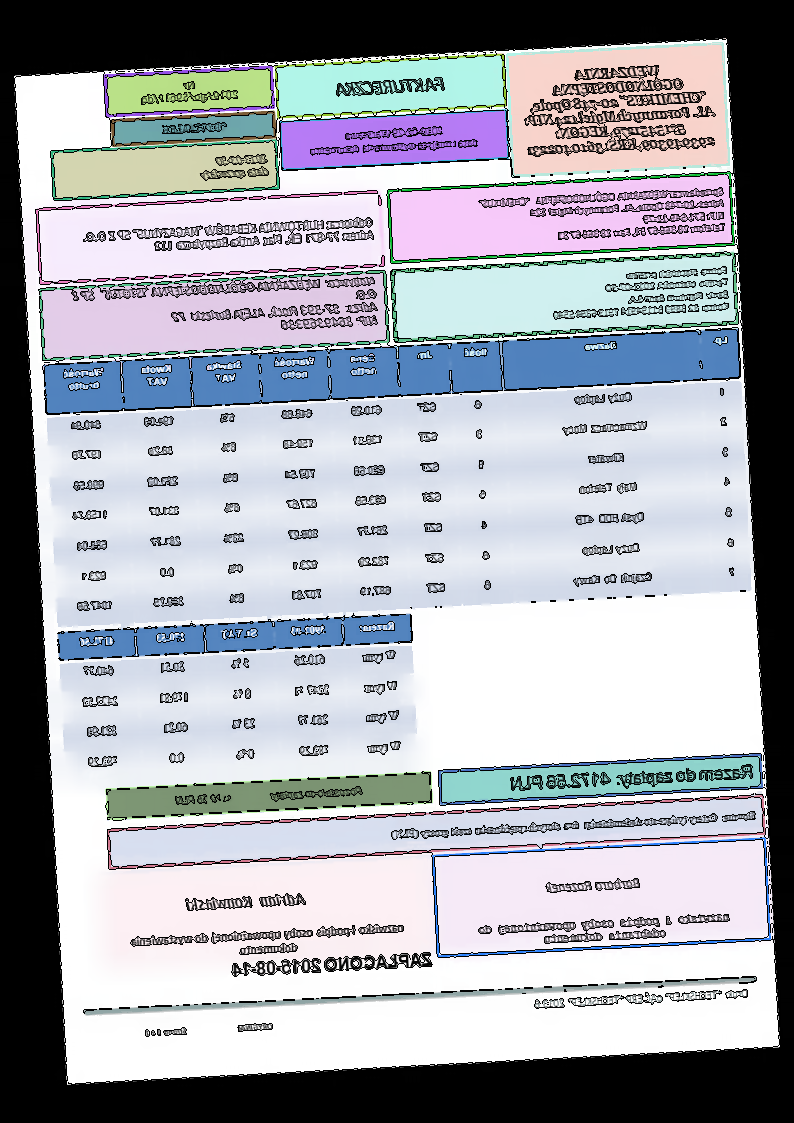Table: (41, 327, 755, 630), (55, 612, 421, 785)
TextBox: (69, 271, 381, 344), (518, 60, 720, 161), (475, 183, 729, 249), (80, 213, 377, 259), (389, 807, 759, 843), (125, 918, 407, 962), (475, 907, 732, 950), (551, 263, 731, 321), (508, 760, 755, 796), (308, 120, 482, 159), (231, 948, 435, 980), (530, 983, 752, 1012), (174, 783, 366, 810), (137, 75, 240, 108), (184, 890, 309, 914), (334, 73, 448, 98), (142, 1018, 275, 1039), (196, 149, 272, 184), (541, 874, 644, 896), (159, 117, 230, 136)
